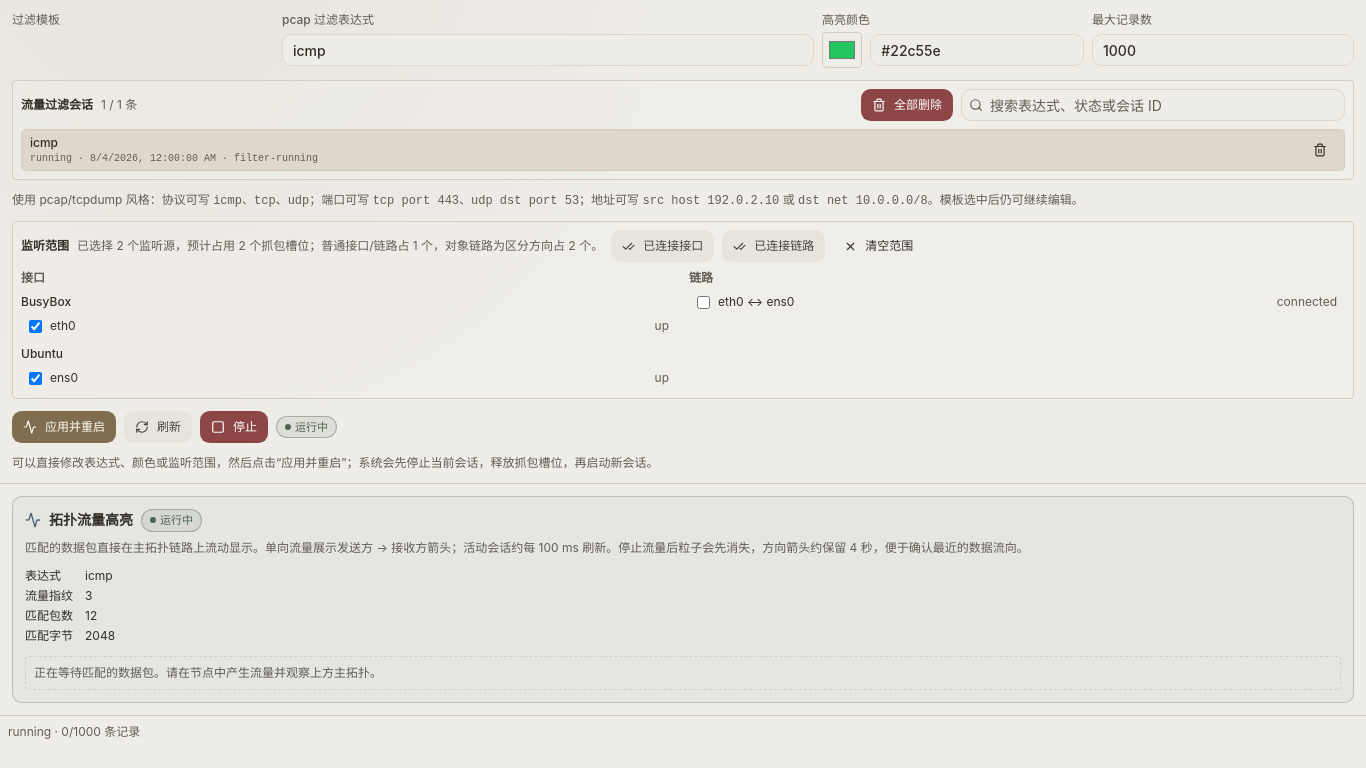
Test case: TrafficFilterPanel interactions › stops the active filter before applying a changed expression
Replace the text in the field named "pcap 过滤表达式" with "udp dst port 19002" at (548, 50), box [282,34,814,66]
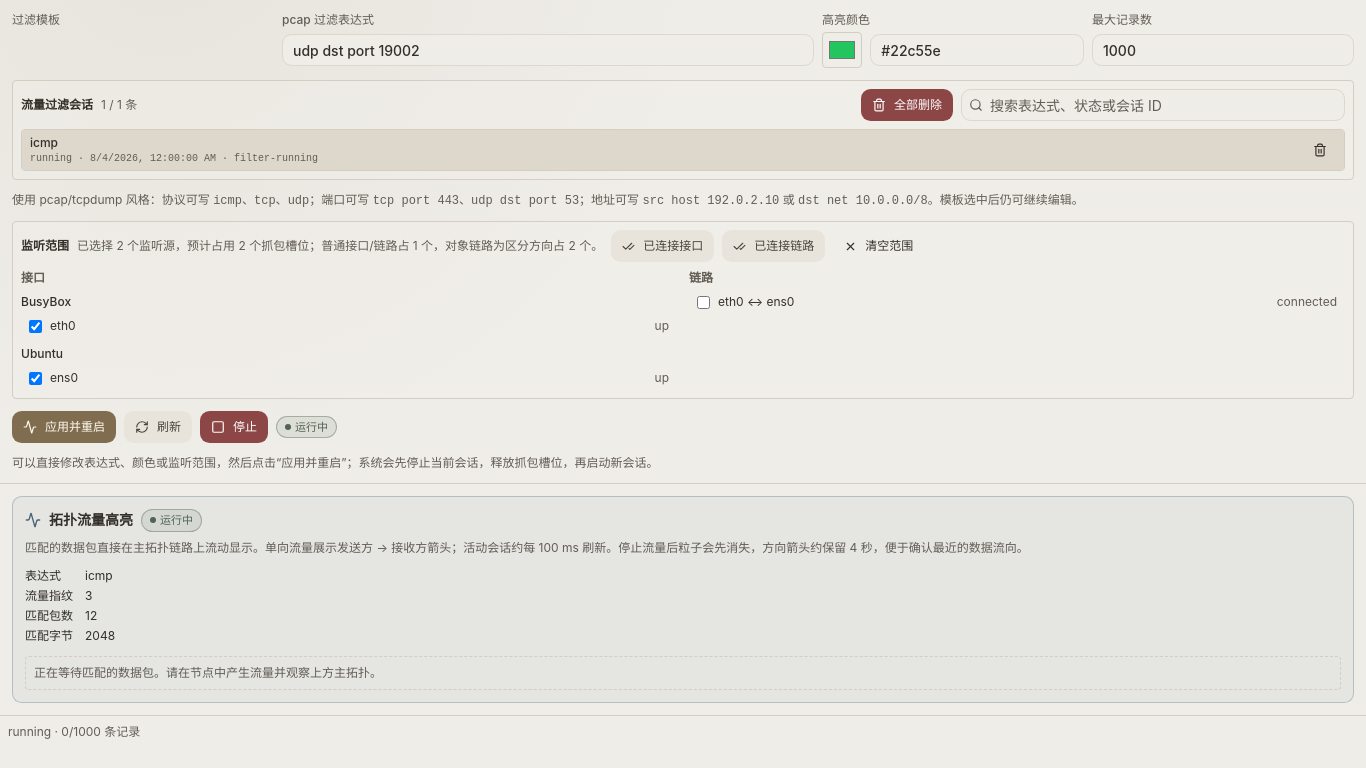
Click the button "应用并重启" at (64, 427), box [12,411,116,443]
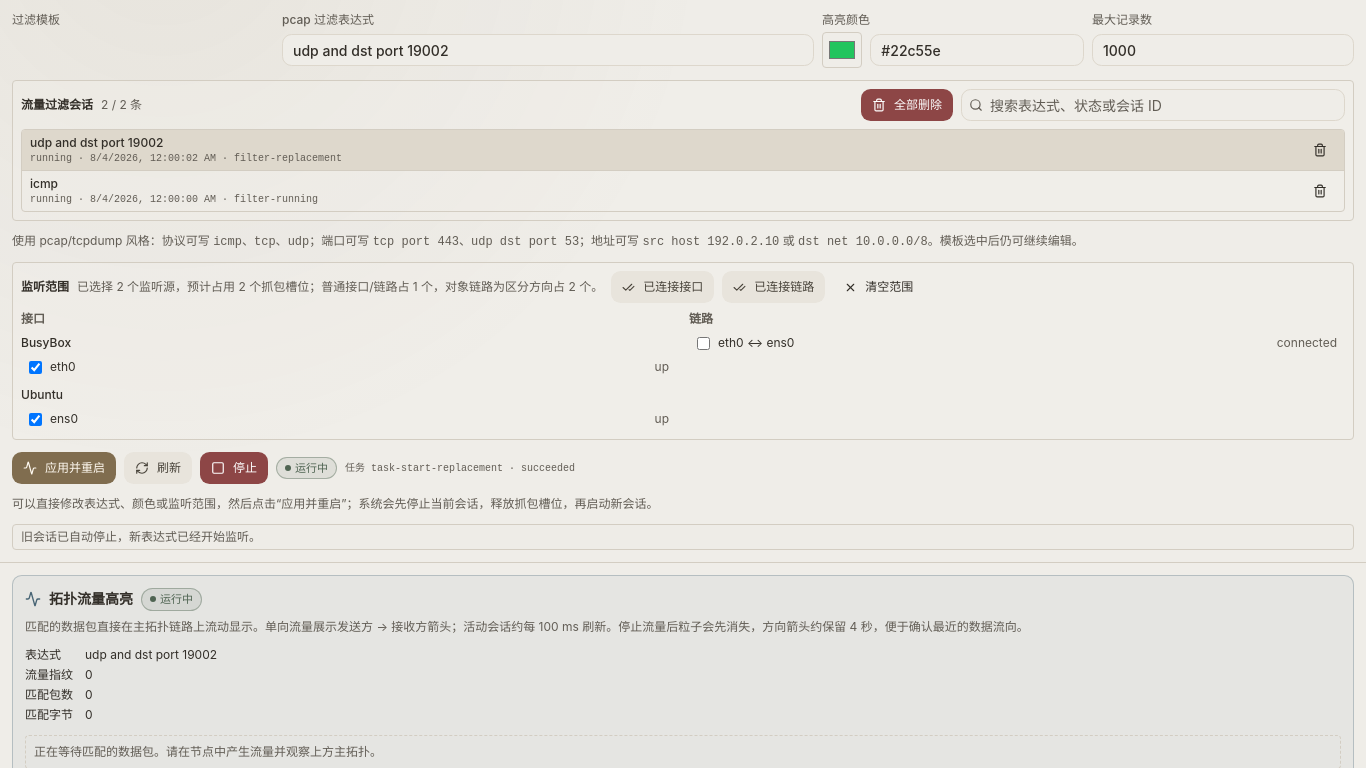
Check: the text "旧会话已自动停止" is shown, box [21,529,261,544]
